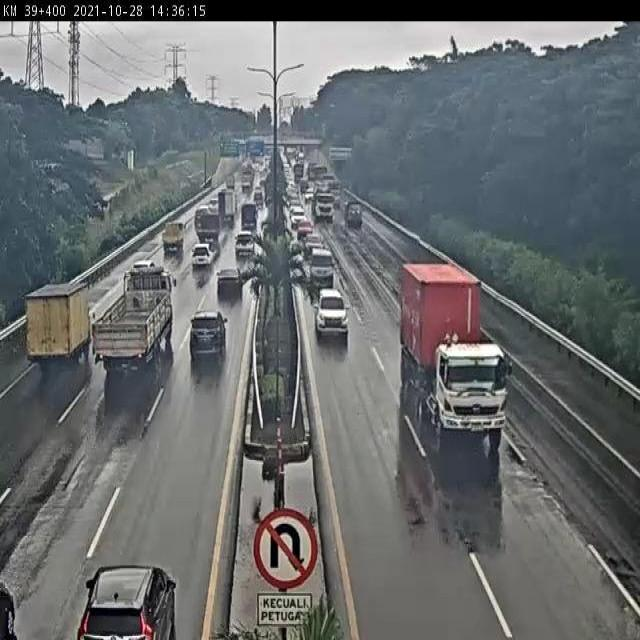big truck: (398, 261, 507, 447), (94, 265, 177, 371)
car: (190, 308, 229, 360), (313, 286, 350, 338), (309, 249, 336, 288), (214, 265, 244, 299), (190, 242, 216, 270), (233, 229, 257, 259), (305, 231, 326, 257), (131, 259, 157, 276)
small truck: (25, 279, 93, 368), (196, 211, 223, 245), (162, 219, 188, 252)
